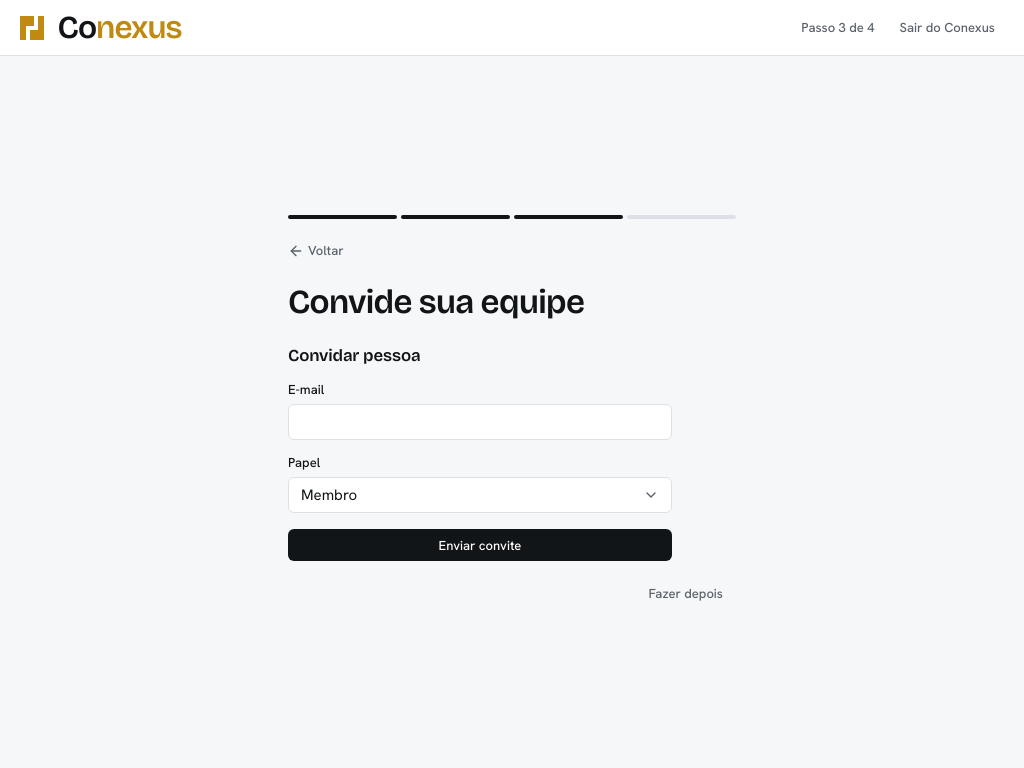
Passo 3: Voltar leva ao Passo 2, e "Fazer depois" ao Passo 4 de 4
Expected: the text "Passo 3 de 4" is shown, [801,21,874,34]
Click the link "Fazer depois".
click(686, 593)  # box [649,585,723,602]
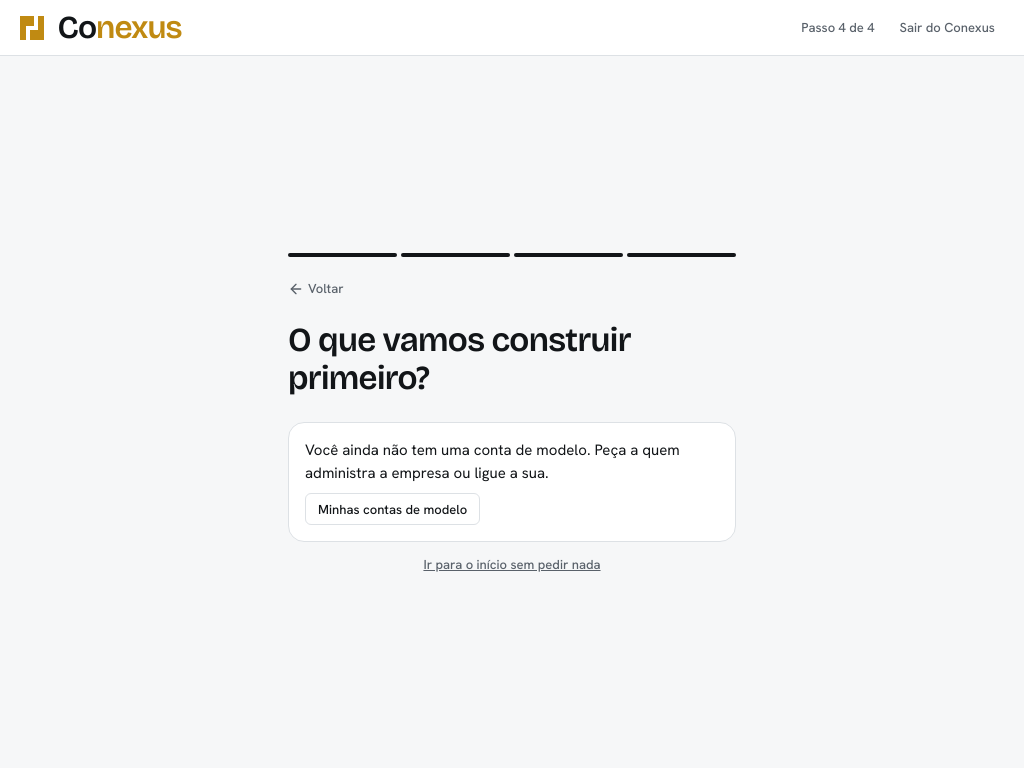
Now the text "Passo 4 de 4" is shown, box [801,21,874,34]
